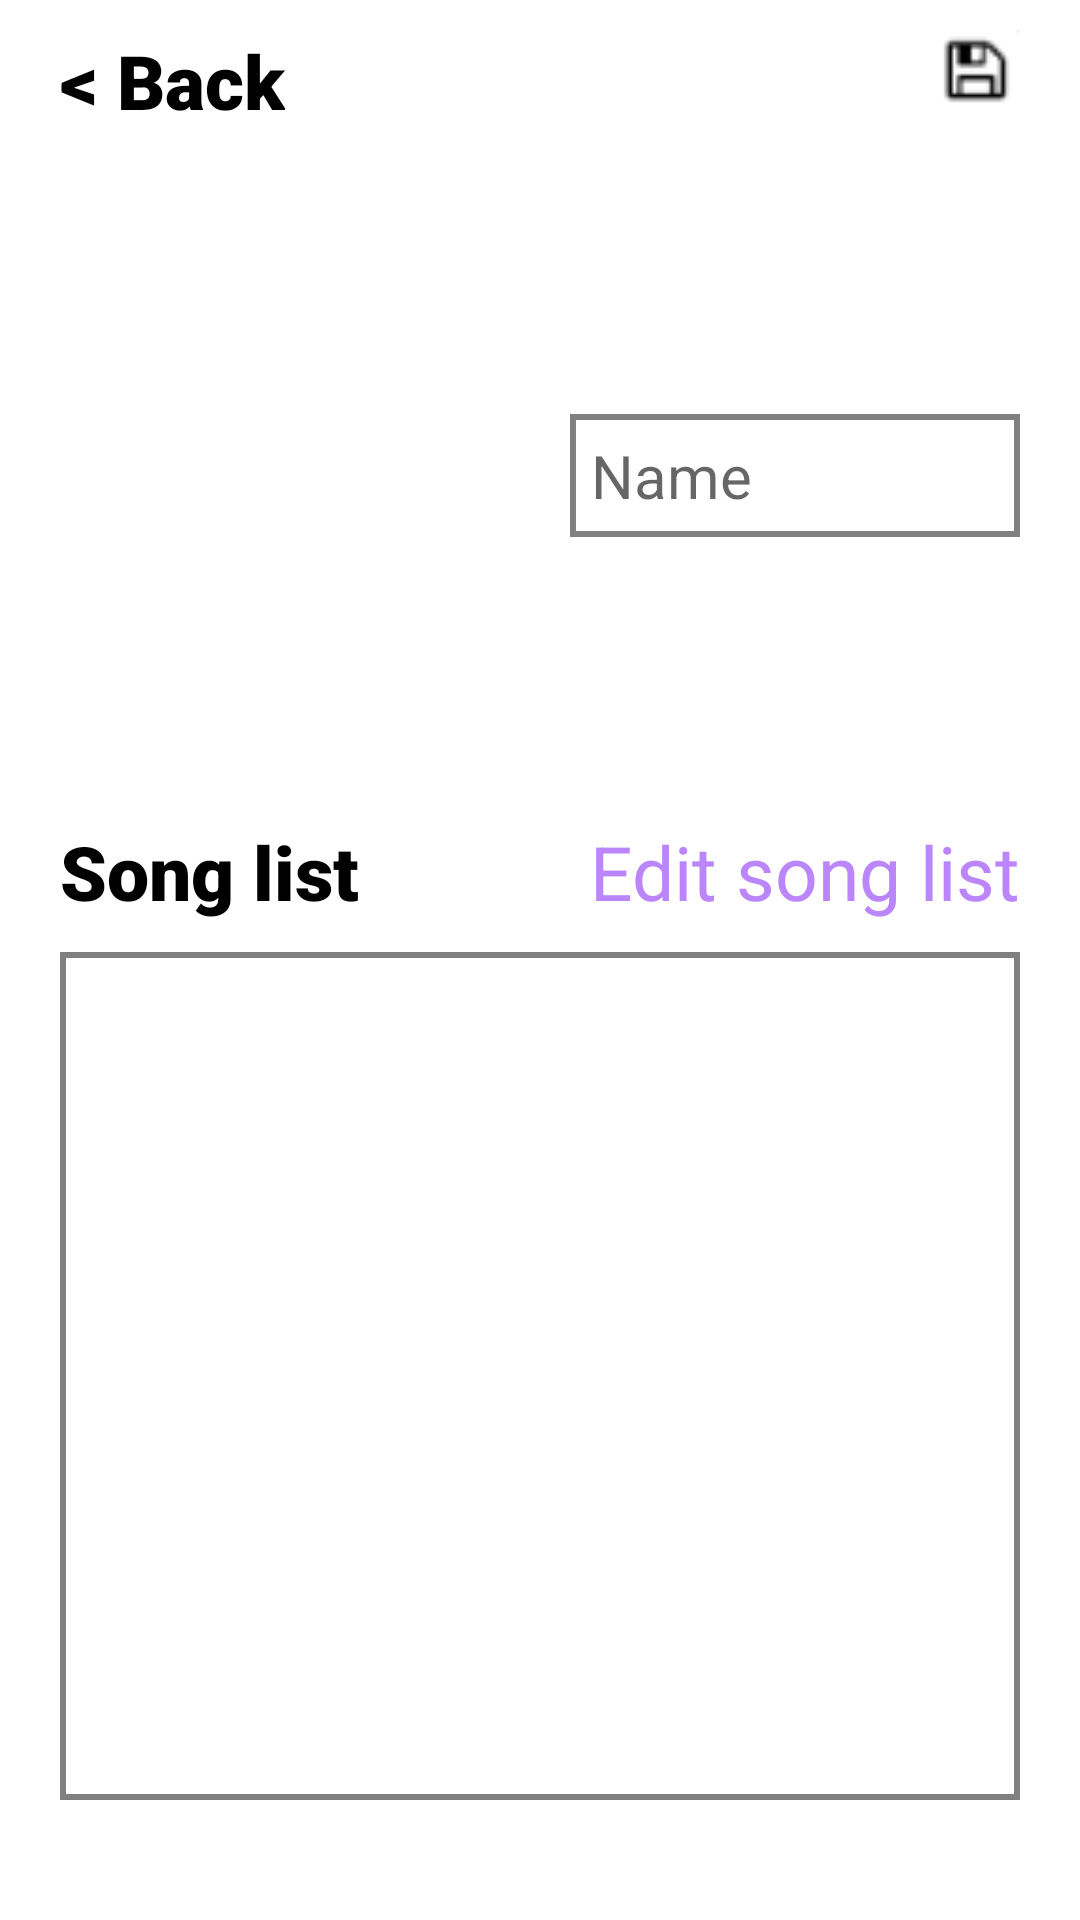

Icon click points for this 1080×1920 phone screenshot, format (x=x, y=y):
save: (x=976, y=70)
